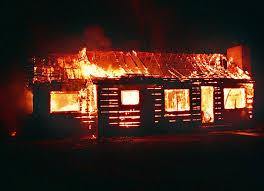fire: (34, 47, 257, 127)
